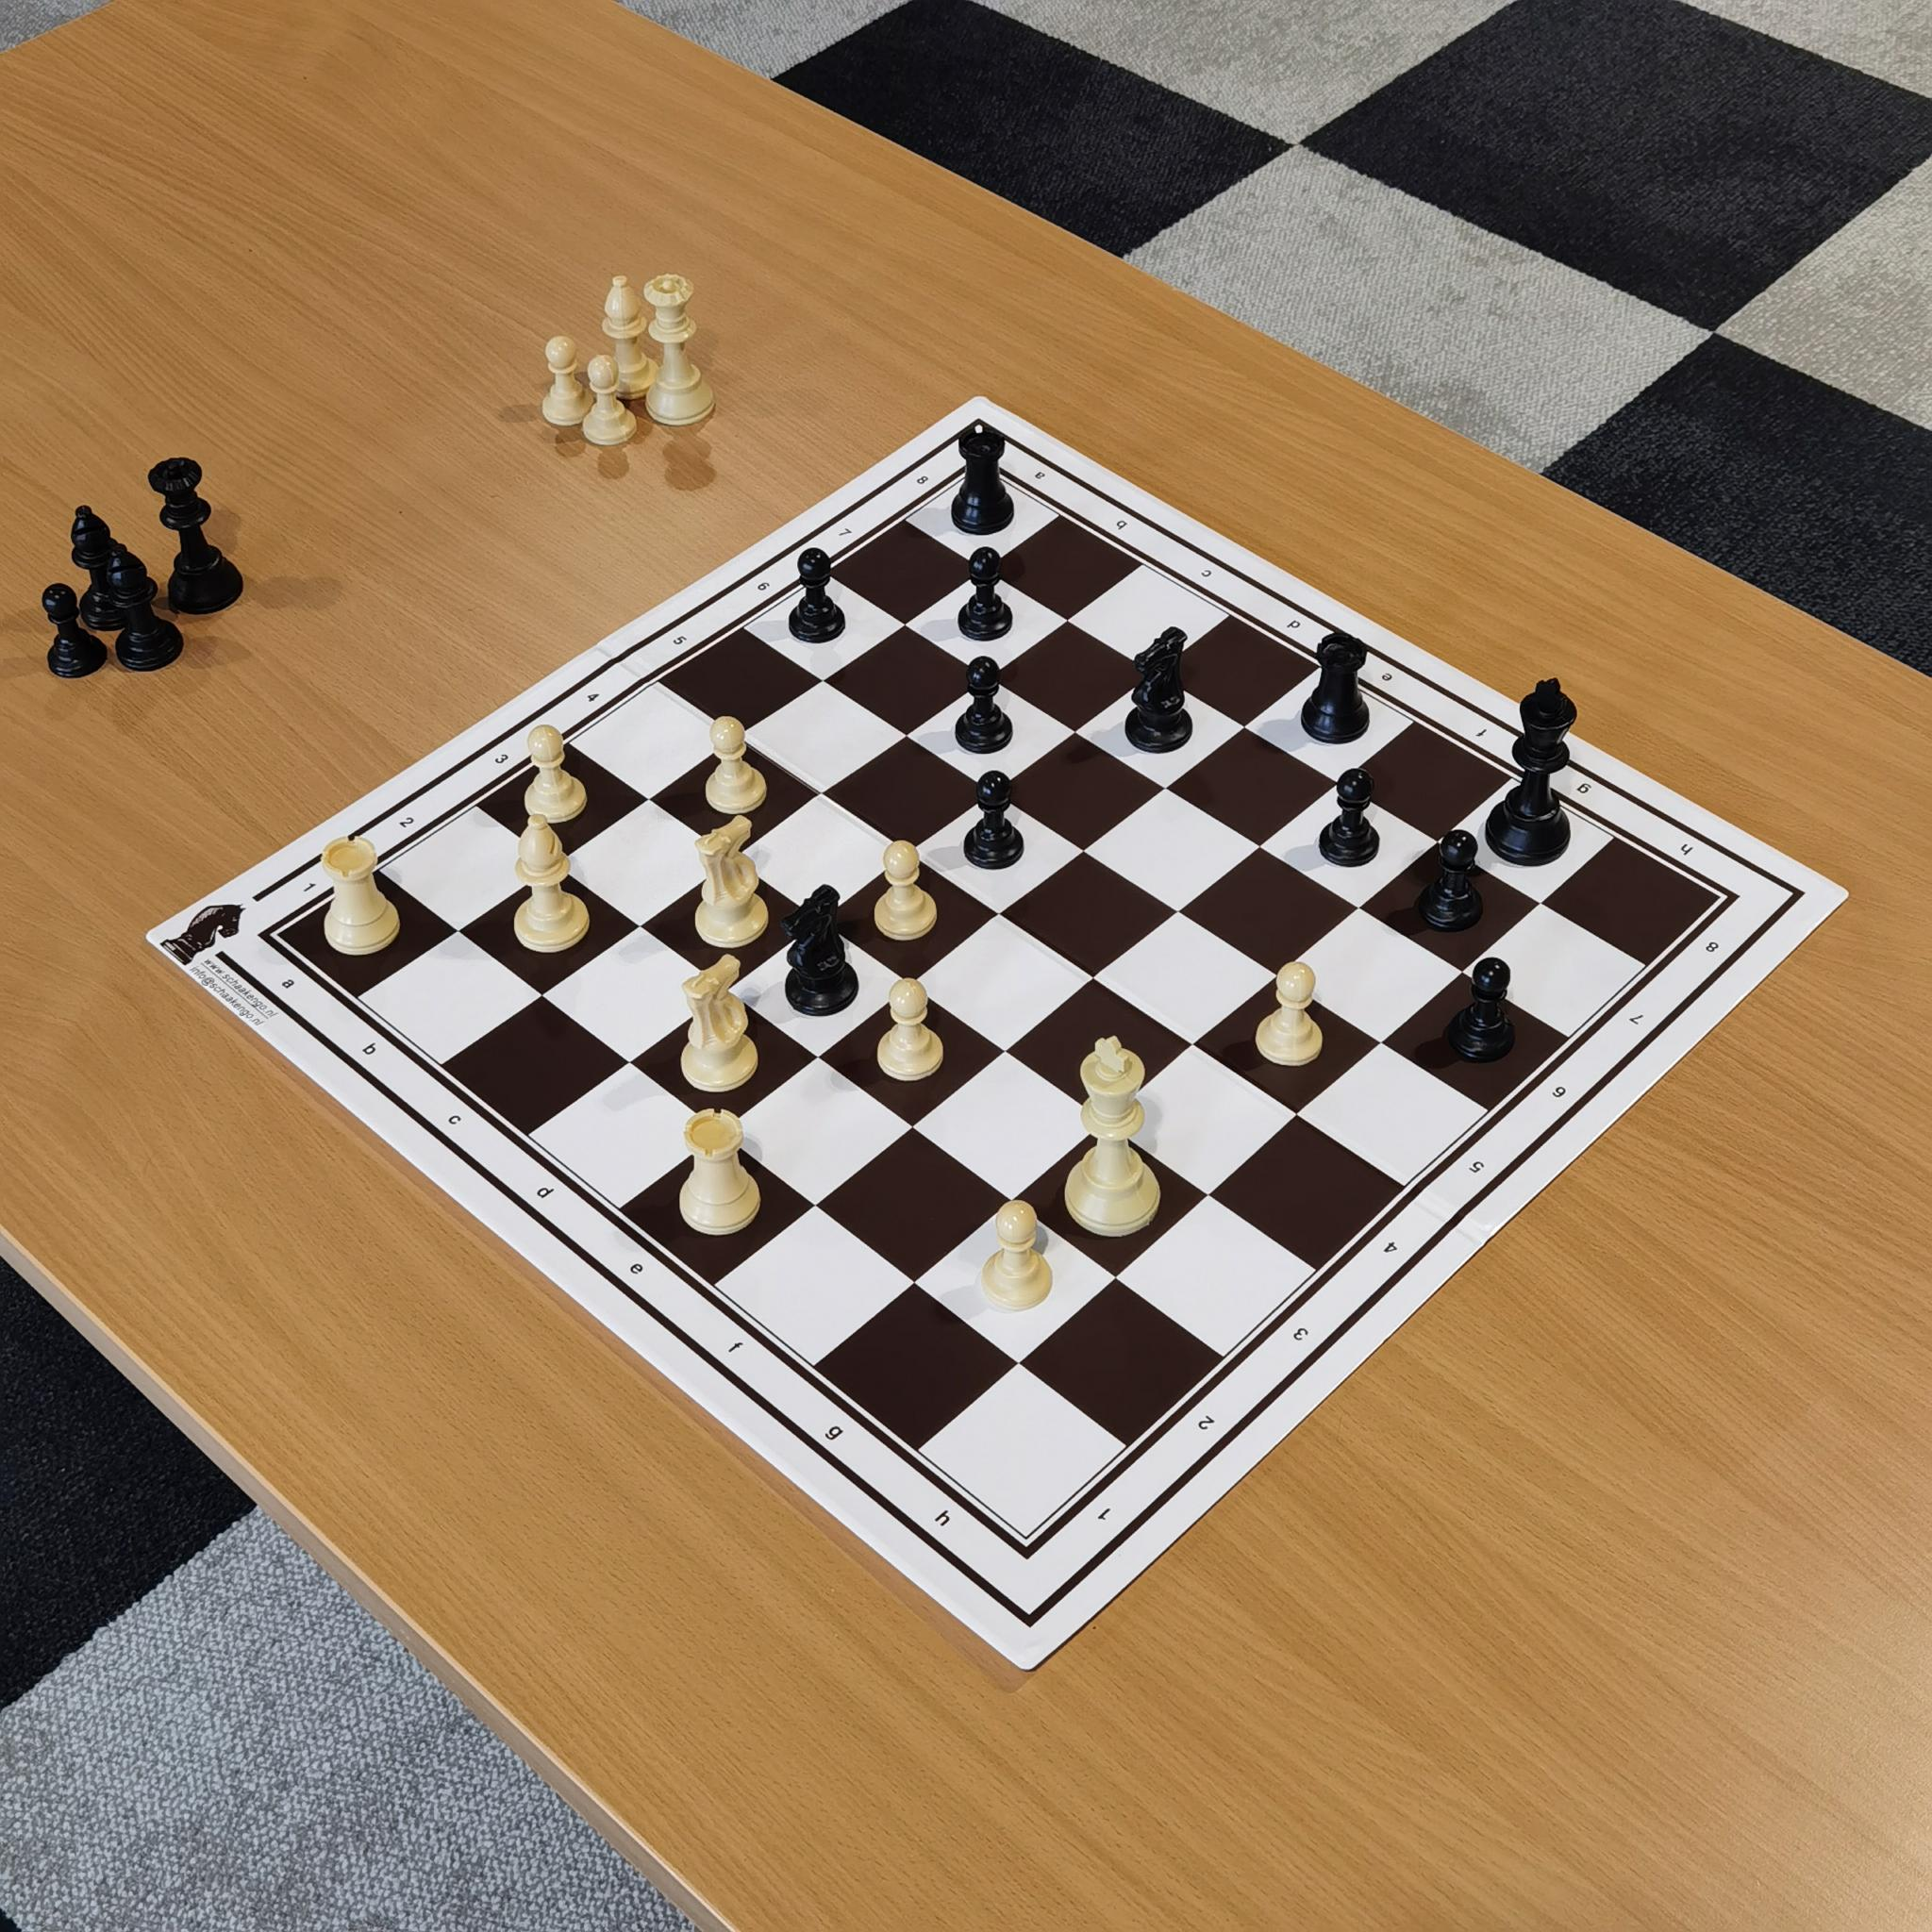corners: (1001, 1511, 1060, 1569), (955, 449, 1007, 504), (249, 915, 306, 957), (1697, 874, 1753, 913)
eight: (901, 460, 943, 501), (1697, 929, 1730, 962)
one: (1088, 1488, 1125, 1539), (292, 865, 327, 904)
